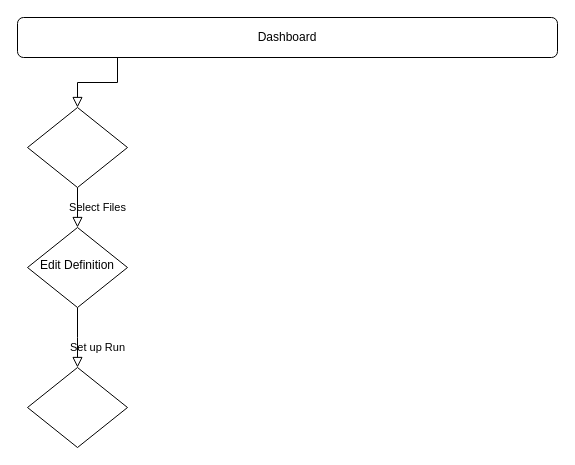
The diagram is 575 pixels wide and 465 high, and some of its shapes have lost their labels. The centre of each missing label's shape, as x and y in pixels:
"Preview and Launch" goes at (x=77, y=407).
"Start Analysis" goes at (x=77, y=147).
